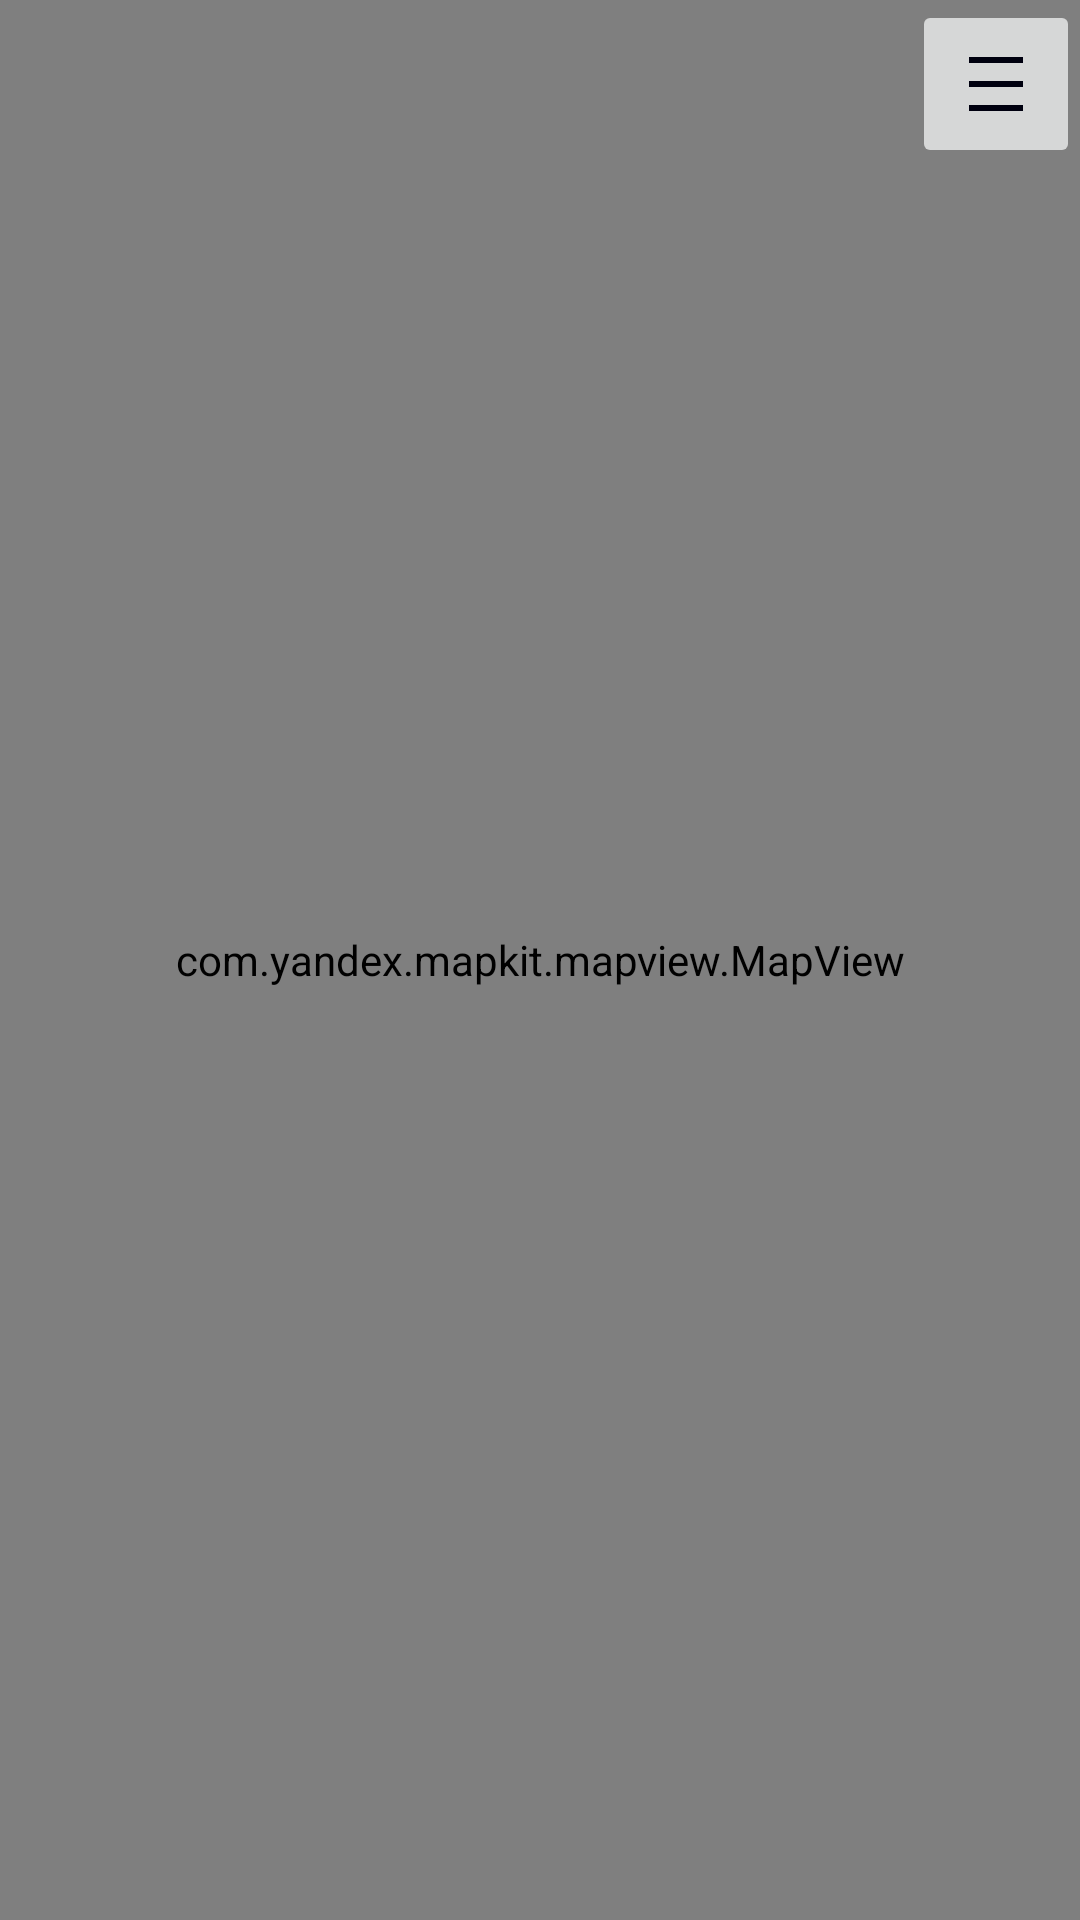

Icon click points for this 1080 x 1920 phone screenshot, format (x=x, y=y):
density medium: (x=996, y=84)
